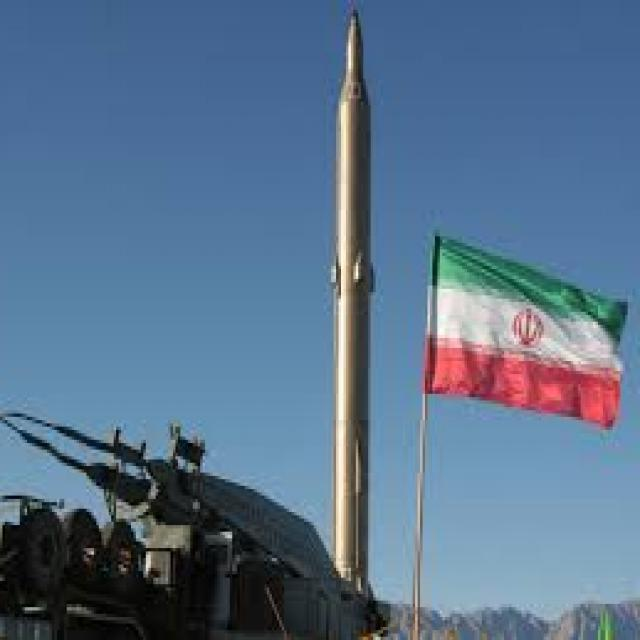Missile: (329, 14, 375, 589)
